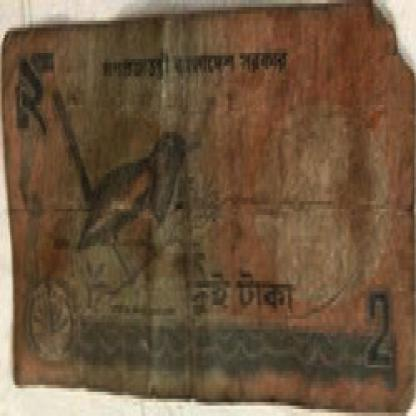two taka: (178, 253, 296, 333), (10, 59, 55, 156)
